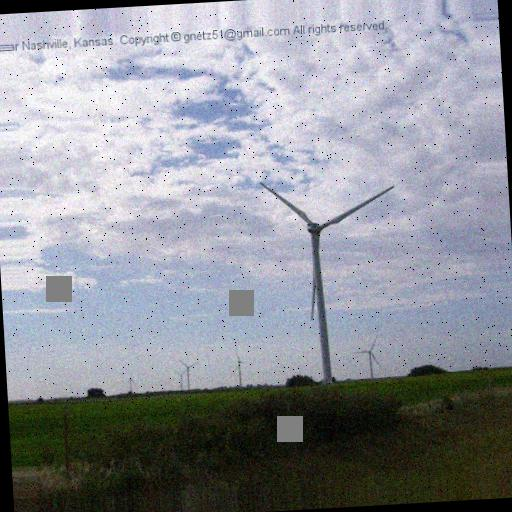wind turbine: (258, 180, 396, 374)
